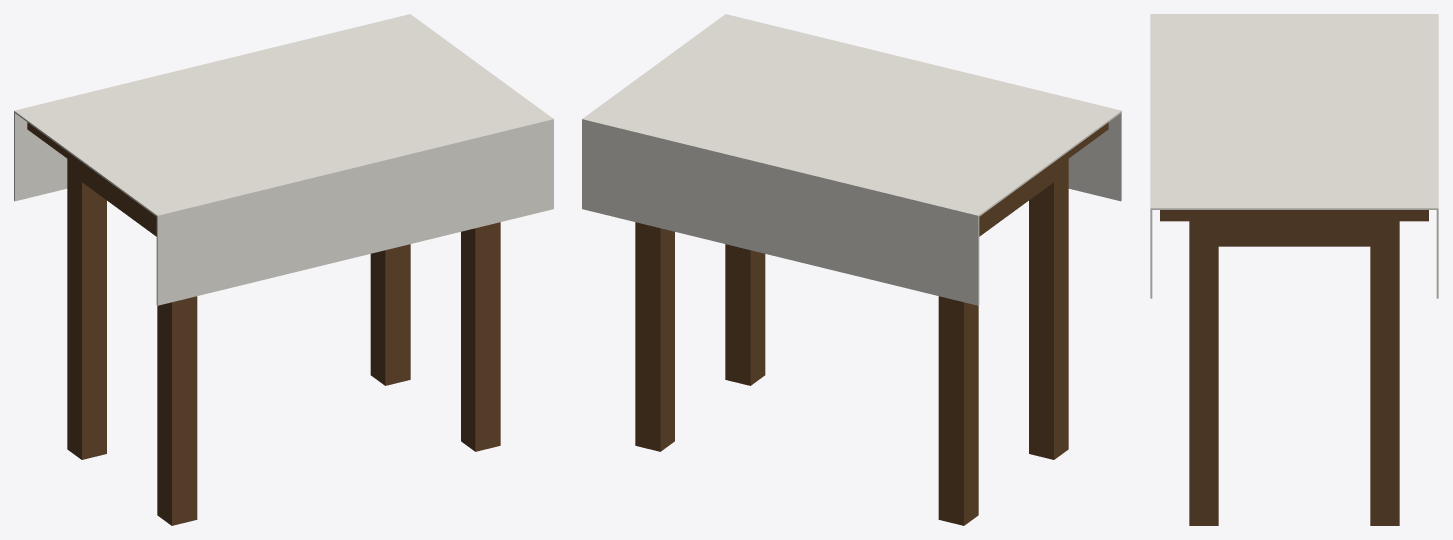
3 views of the same model, side by side, from view 1: azimuth 30°, elevation 25°; view 2: azimuth 150°, elevation 25°; view 3: azimuth 270°, elevation 25° (orthographic).
Parts seen in each view (by area): view 1: parametric-variant-table-1st-pub-5ca1d7e33ca258102c36; view 2: parametric-variant-table-1st-pub-5ca1d7e33ca258102c36; view 3: parametric-variant-table-1st-pub-5ca1d7e33ca258102c36.
Boxes of the visible parts, x1,y1,x2,y2 form: parametric-variant-table-1st-pub-5ca1d7e33ca258102c36: (14, 14, 553, 525); parametric-variant-table-1st-pub-5ca1d7e33ca258102c36: (582, 14, 1121, 525); parametric-variant-table-1st-pub-5ca1d7e33ca258102c36: (1150, 14, 1438, 525).
Bounding box in the file's own units: 0.94 × 0.754 × 0.59.
